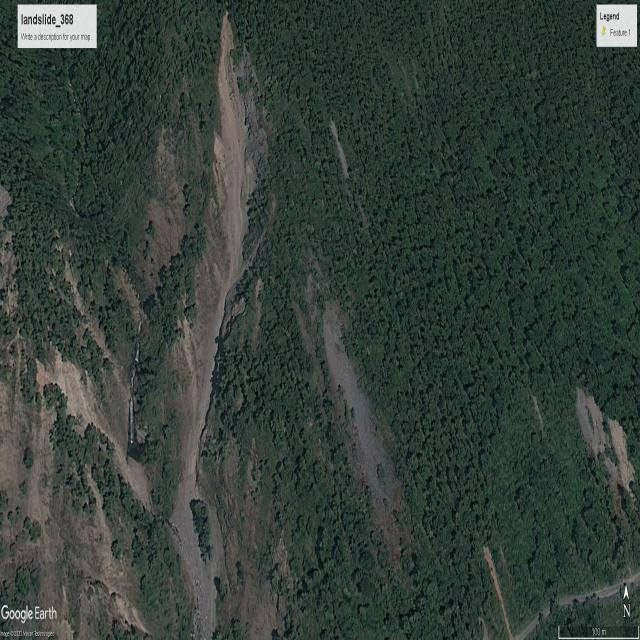Landslide: (214, 17, 253, 270), (176, 471, 225, 628)
